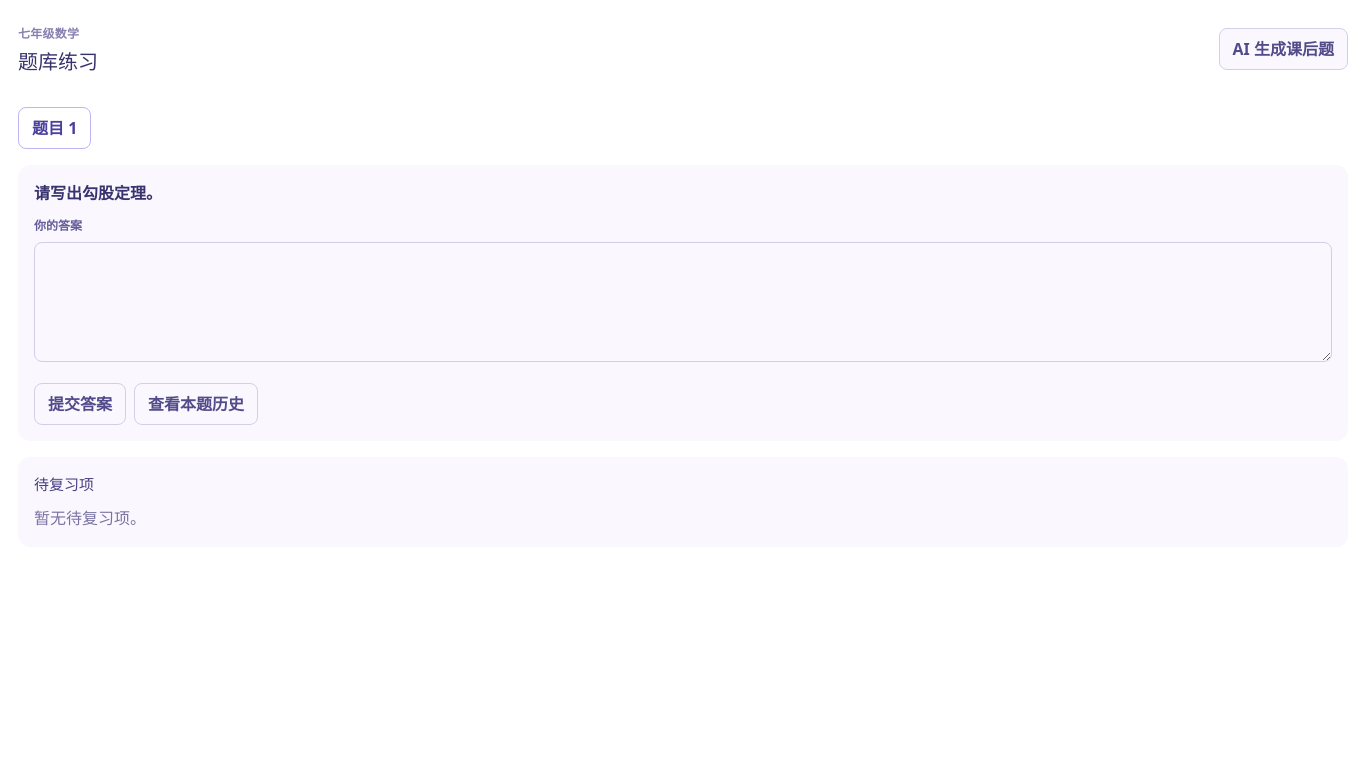
it: QuestionBankPanel › lets a learner answer, see safe feedback, review items, and own history
Expected: the text "请写出勾股定理。" is shown, [34,182,162,204]
Step 1. Type "直角三角形两直角边平方和等于斜边平方" into the text box labelled "你的答案" → [683, 302], box [34,242,1332,362]
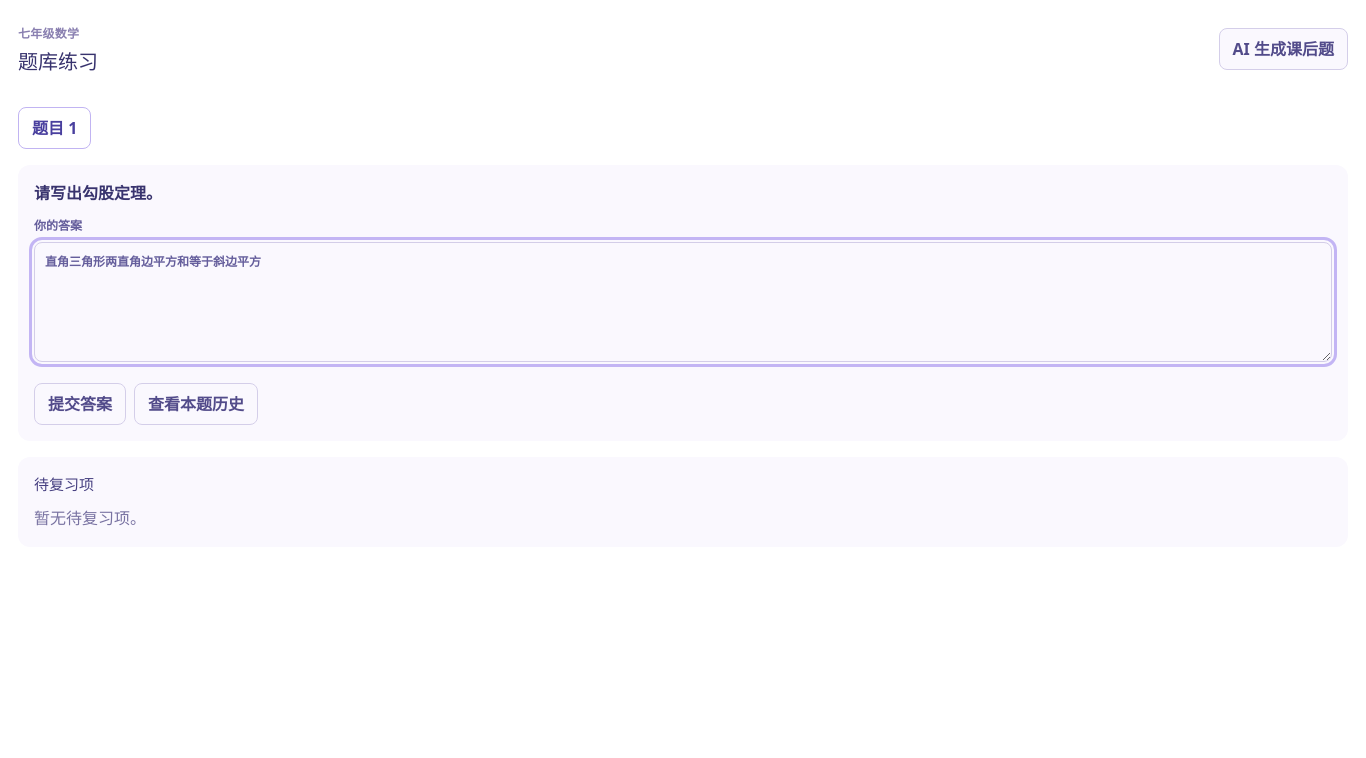
Step 2. Click the button "提交答案" → [80, 404], box [34,383,126,425]
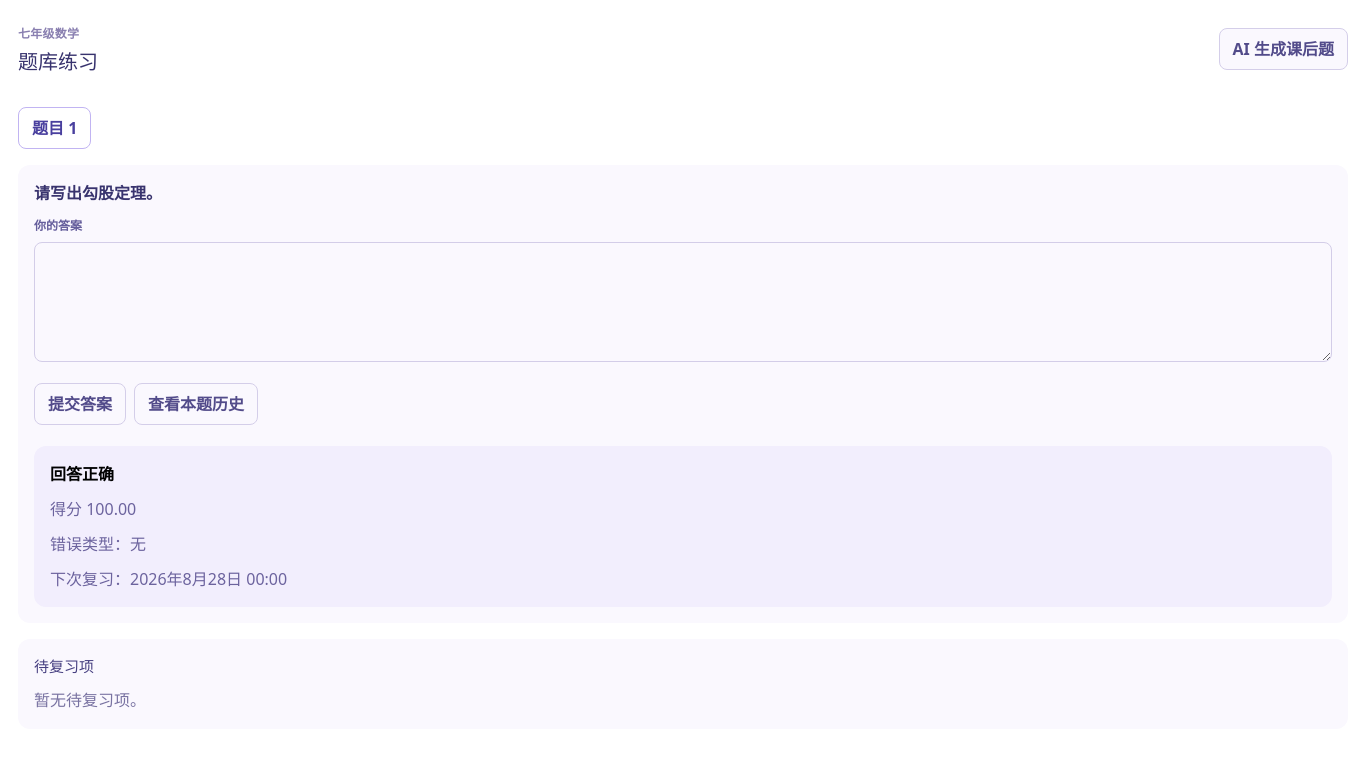
Expected: the text "回答正确" is shown, [50,463,114,485]
Expected: the text "得分 100.00" is shown, [50,498,136,520]
Expected: the text "下次复习：2026年8月28日 00:00" is shown, [50,568,287,590]
Step 3. Click the button "查看本题历史" → [196, 404], box [134,383,258,425]
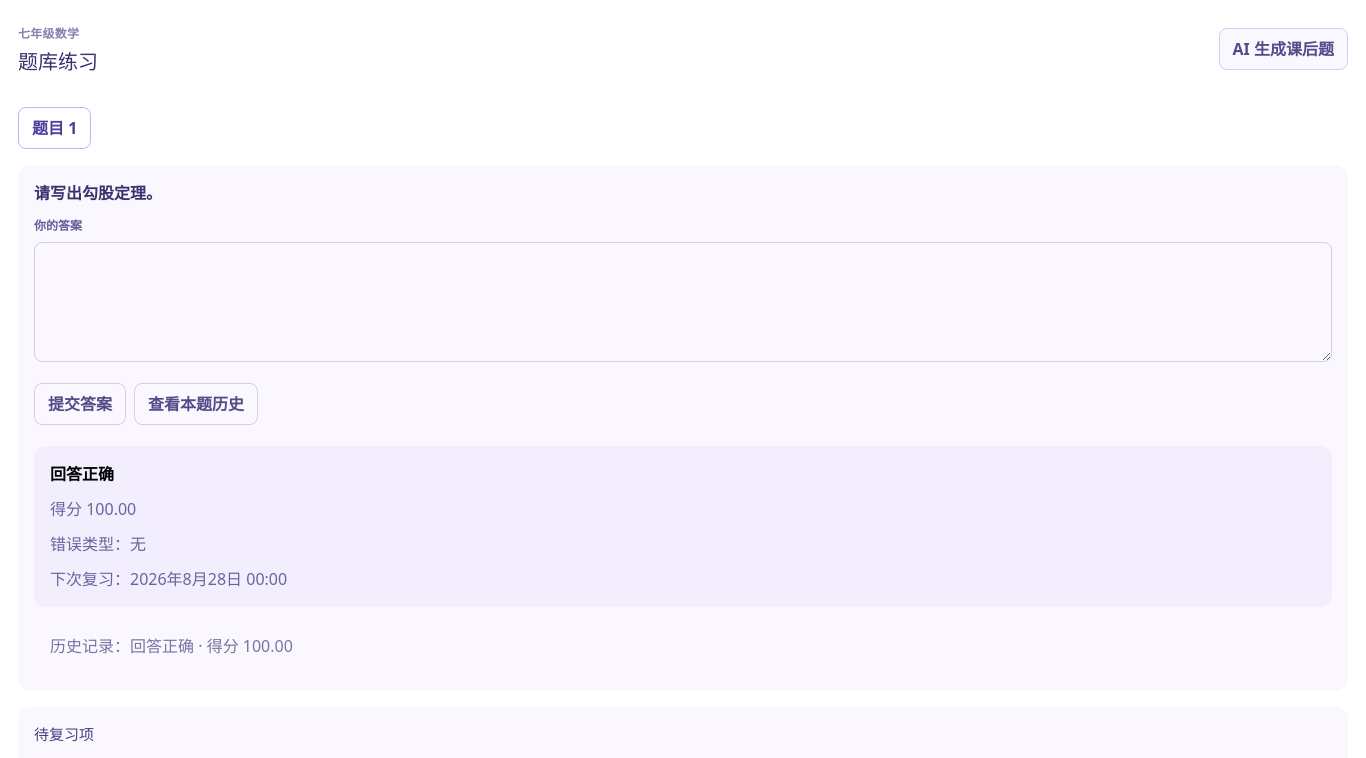
Expected: the text "历史记录：回答正确 · 得分 100.00" is shown, [50,635,293,657]
